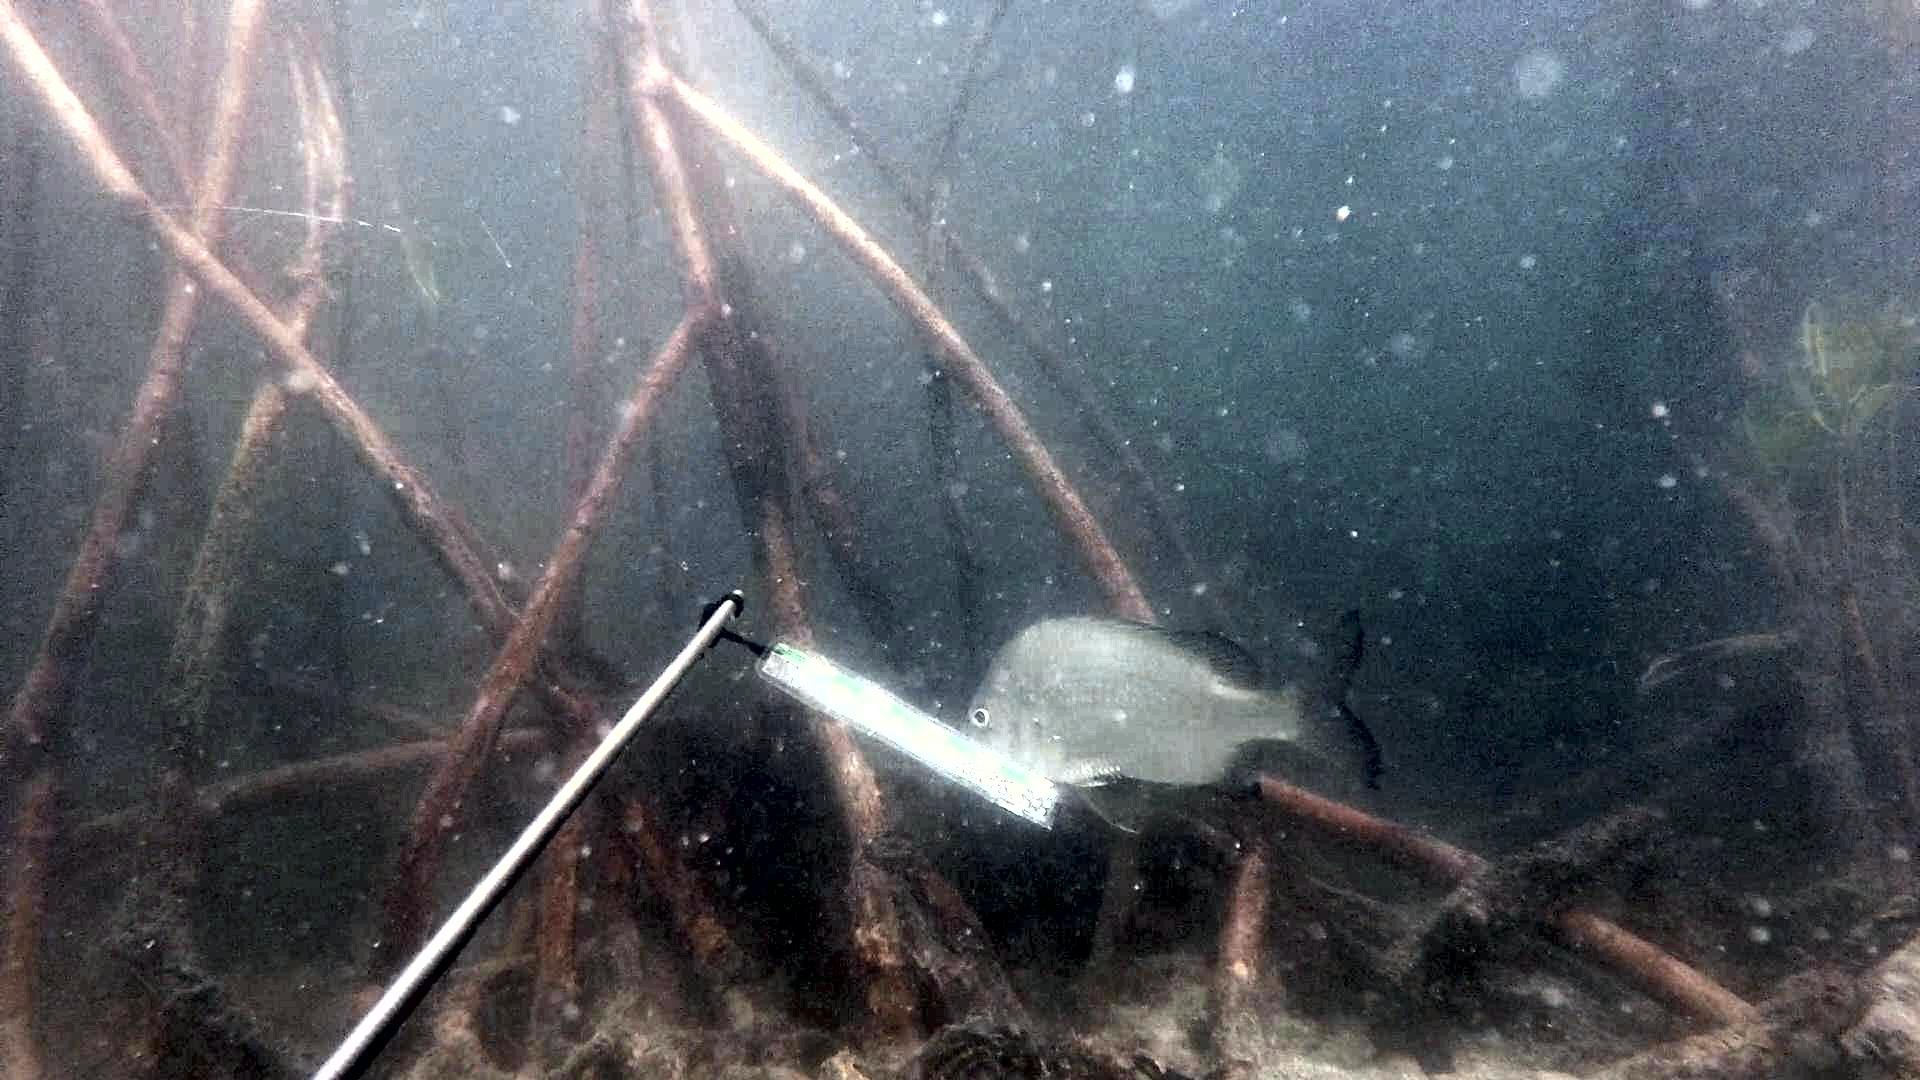acanthopagrus palmaris: (945, 604, 1392, 851)
